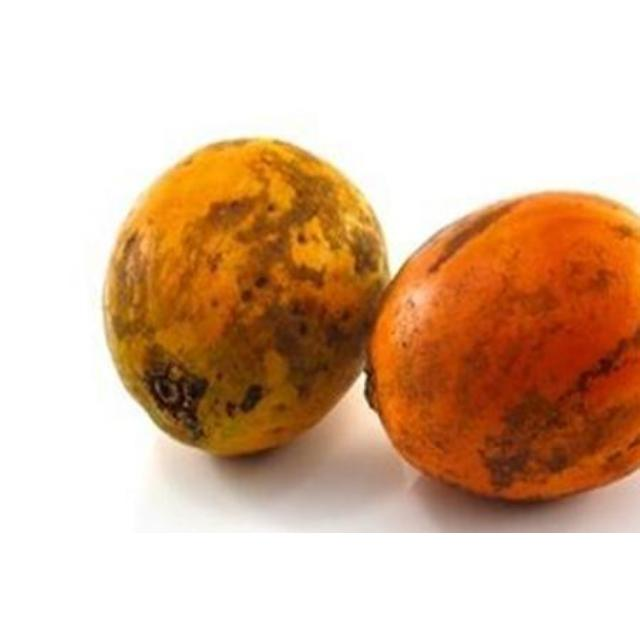good: (101, 138, 393, 461), (364, 192, 639, 505)
